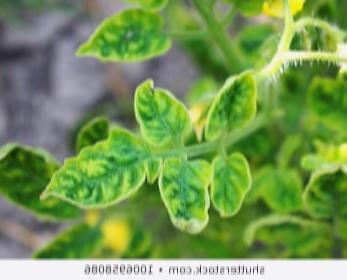Tomato leaf yellow virus: (24, 134, 158, 213), (50, 2, 170, 73), (153, 148, 215, 238), (126, 76, 189, 153), (211, 61, 260, 147)
